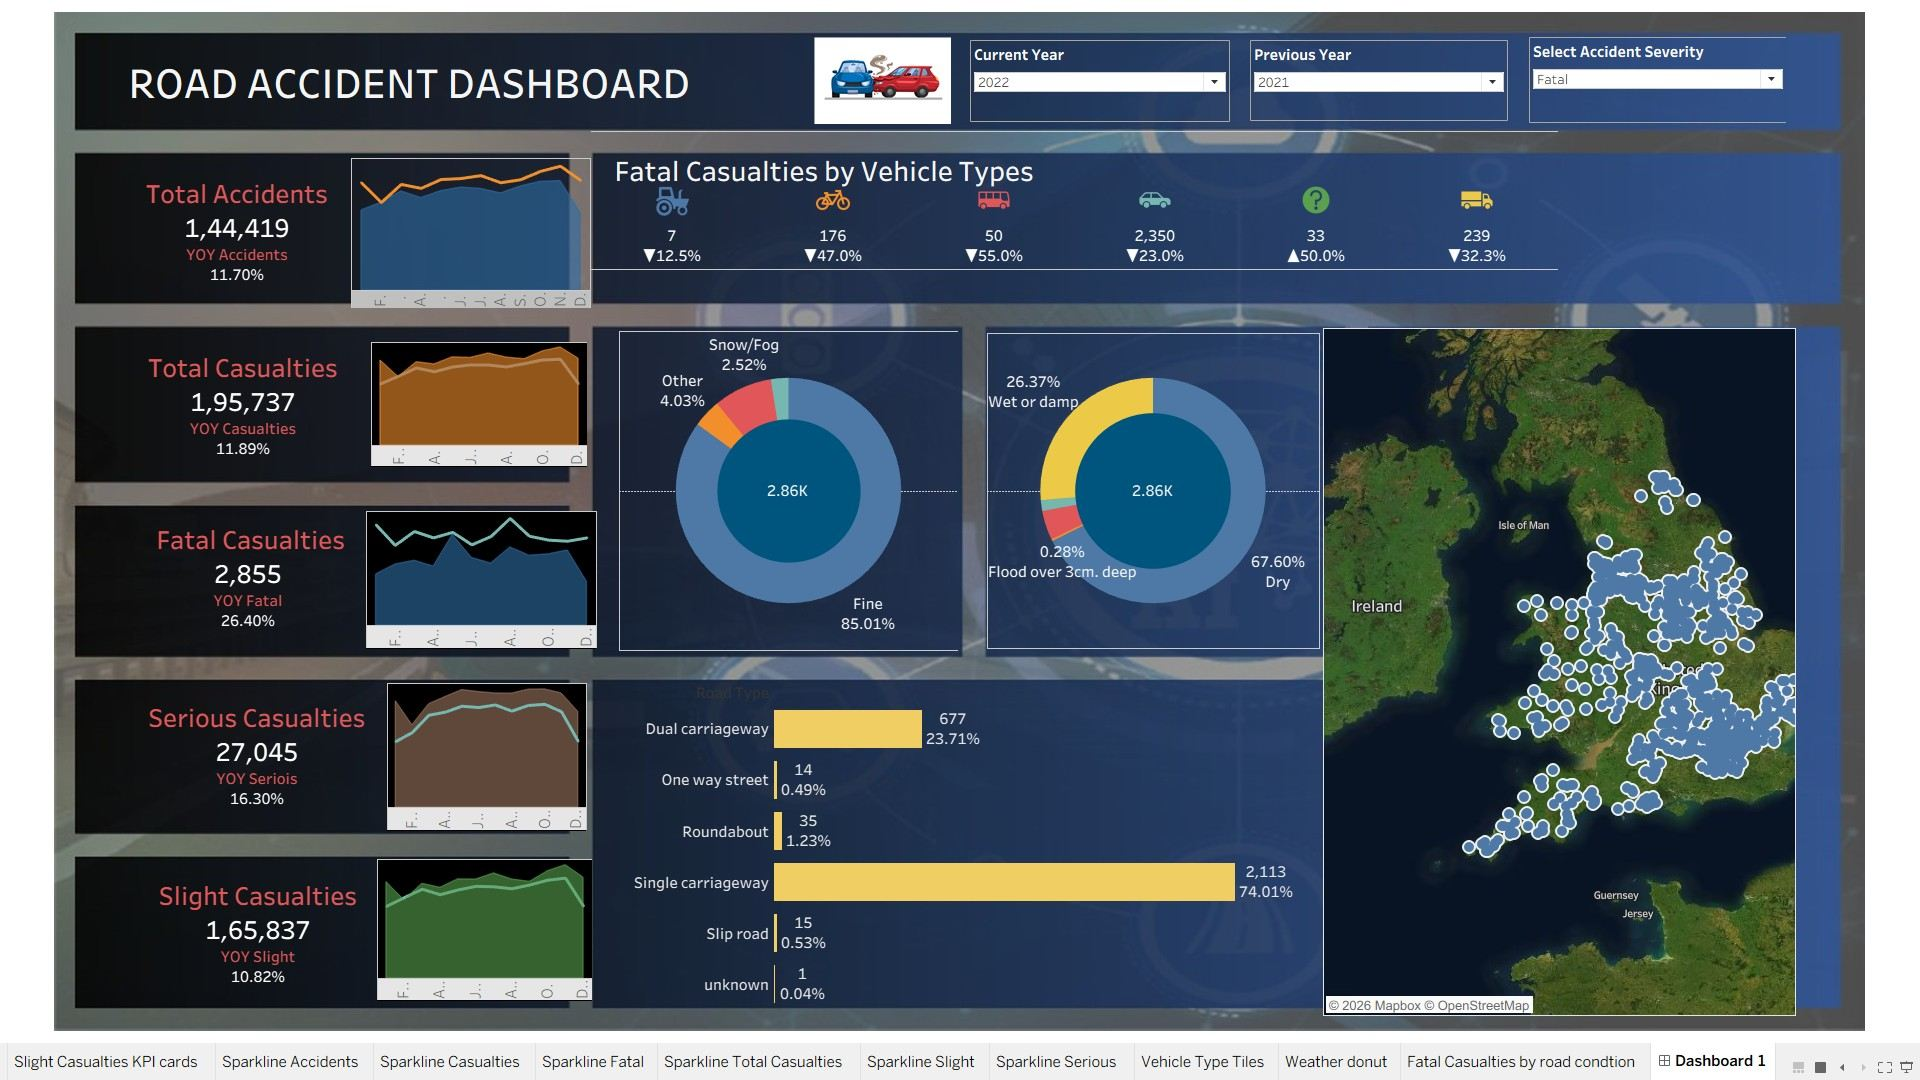

What the dashboard file says about the page in this screenshot:
{"tool":"tableau","page":{"name":"Dashboard 1","canvas":[1000,1000],"units":"permille","ordinal":0},"visuals":[{"type":"image","param":"Image/Background.jpg.jpeg","box":[4.8,9.4,990.3,981.2]},{"type":"image","param":"Image/car-crash-accident-side-impact-illustration-concept-in-cartoon-vector.jpg","box":[424,35.2,71.4,85.8]},{"type":"parameter","param":"[Parameters].[Parameter 1600673662885896]","box":[796.2,35.2,134.2,82.3]},{"type":"text","box":[65.3,37.6,363.6,81.1]},{"type":"parameter","param":"[Parameters].[Parameter 1600673660440580]","box":[505.2,38.8,135.4,78.7]},{"type":"parameter","param":"[Parameters].[Parameter 1600673662119943]","box":[651,38.8,134.2,77.6]},{"type":"worksheet","title":"Vehicle Type Tiles","mark":"Shape","cols":["Vehicle_Types"],"box":[307.9,125.7,647.9,170.4]},{"type":"text","box":[318,148.1,299.9,31.7]},{"type":"worksheet","title":"Total Accidents KPIs Card","mark":"Automatic","box":[64.6,149.2,117.7,144.5]},{"type":"worksheet","title":"Sparkline Accidents","mark":"Automatic","rows":["Calculation_1600673664757770","Calculation_1600673665400843"],"cols":["Calculation_1600673646653442"],"box":[182.9,151.6,124.9,144.5]},{"type":"worksheet","title":"Total Casualties KPIs Card","mark":"Automatic","box":[66.4,313.8,120.7,153.9]},{"type":"worksheet","title":"Map","mark":"Automatic","rows":["Latitude"],"cols":["Longitude"],"box":[689.2,314.9,246.2,659.2]},{"type":"worksheet","title":"Weather donut","mark":"Pie","rows":["Calculation_1698805644668930","Calculation_1698805644754948"],"box":[322.3,317.3,176.8,306.7]},{"type":"worksheet","title":"Fatal Casualties by road condtion","mark":"Pie","rows":["Calculation_1698805644668930","Calculation_1698805644754948"],"box":[514.2,319.6,173.2,303.2]},{"type":"worksheet","title":"Sparkline Total Casualties","mark":"Area","rows":["Calculation_1600673669722125","Calculation_1600673670205454"],"cols":["Calculation_1600673646653442"],"box":[193.1,327.9,112.9,119.9]},{"type":"worksheet","title":"Fatal Casualties KPI card.","mark":"Automatic","box":[67.6,483,122.5,141]},{"type":"worksheet","title":"Sparkline Fatal","mark":"Area","rows":["Calculation_1600673672777744","Calculation_1600673673363473"],"cols":["Calculation_1600673646653442"],"box":[190.7,490,120.1,132.8]},{"type":"worksheet","title":"Serious Casualties KPI card.","mark":"Automatic","box":[65.8,648.6,135.8,151.6]},{"type":"worksheet","title":"Sparkline Serious ","mark":"Area","rows":["Calculation_1600673675071509","Calculation_1600673674903571"],"cols":["Calculation_1600673646653442"],"box":[201.6,654.5,104.4,142.2]},{"type":"worksheet","title":"Fatal casualties by Road type","mark":"Automatic","rows":["Road_Type"],"cols":["Calculation_1600673677799452"],"box":[319.7,654.5,367.9,313.8]},{"type":"worksheet","title":"Slight Casualties KPI cards","mark":"Automatic","box":[67.6,821.4,132.8,148.1]},{"type":"worksheet","title":"Sparkline Slight","mark":"Area","rows":["Calculation_1600673675481111","Calculation_1600673675603992"],"cols":["Calculation_1600673646653442"],"box":[196.1,823.7,112.2,136.3]}]}

Visuals, with their boxes on the dashboard's canvas, which has no fixed pixel size, in thousandths of its width and height (x1, y1, x2, y2). These are canvas units, not pixel positions in the 1920x1080 screenshot, which may show the page scaled, cropped or inside an application window:
image: l=5, t=9, r=995, b=991
image: l=424, t=35, r=495, b=121
parameter: l=796, t=35, r=930, b=118
text: l=65, t=38, r=429, b=119
parameter: l=505, t=39, r=641, b=118
parameter: l=651, t=39, r=785, b=116
"Vehicle Type Tiles" worksheet (Shape marks): l=308, t=126, r=956, b=296
text: l=318, t=148, r=618, b=180
"Total Accidents KPIs Card" worksheet: l=65, t=149, r=182, b=294
"Sparkline Accidents" worksheet: l=183, t=152, r=308, b=296
"Total Casualties KPIs Card" worksheet: l=66, t=314, r=187, b=468
"Map" worksheet: l=689, t=315, r=935, b=974
"Weather donut" worksheet (Pie marks): l=322, t=317, r=499, b=624
"Fatal Casualties by road condtion" worksheet (Pie marks): l=514, t=320, r=687, b=623
"Sparkline Total Casualties" worksheet (Area marks): l=193, t=328, r=306, b=448
"Fatal Casualties KPI card." worksheet: l=68, t=483, r=190, b=624
"Sparkline Fatal" worksheet (Area marks): l=191, t=490, r=311, b=623
"Serious Casualties KPI card." worksheet: l=66, t=649, r=202, b=800
"Sparkline Serious " worksheet (Area marks): l=202, t=654, r=306, b=797
"Fatal casualties by Road type" worksheet: l=320, t=654, r=688, b=968
"Slight Casualties KPI cards" worksheet: l=68, t=821, r=200, b=970
"Sparkline Slight" worksheet (Area marks): l=196, t=824, r=308, b=960
